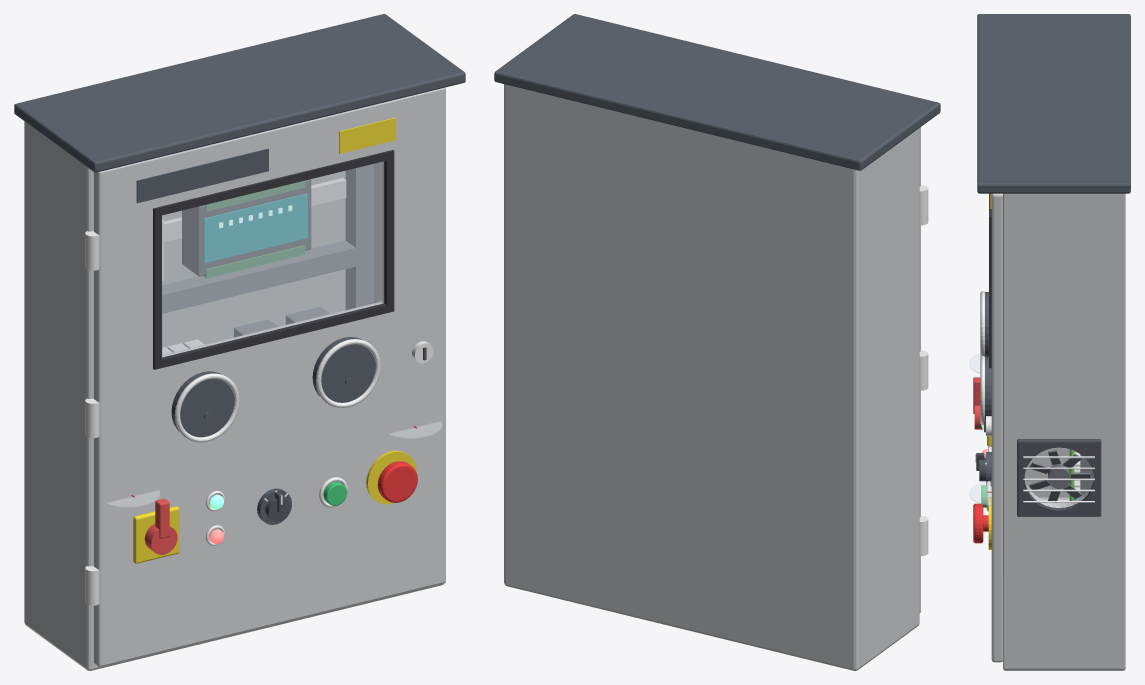
Rendered from electrical_panel.glb.
3 renders of one model, left to right at view 1: azimuth 30°, elevation 25°; view 2: azimuth 150°, elevation 25°; view 3: azimuth 270°, elevation 25°, orthographic. The views are drawn at different scales.
Parts seen in each view (by area): view 1: enclosure_door, cabinet_body, enclosure_window_glass, interior_props, plc_controller, gauge_voltmeter, gauge_ammeter, emergency_stop, main_breaker; view 2: cabinet_body, enclosure_door; view 3: cabinet_body, enclosure_door, cooling_fan, gauge_ammeter, gauge_voltmeter, interior_props, emergency_stop, gauge_ammeter_glass, main_breaker, selector_switch.
Part boxes in pixels (x1,y1,x2,y2): enclosure_door: (85,87,445,666); cabinet_body: (14,14,465,670); enclosure_window_glass: (162,161,383,357); interior_props: (162,164,373,354); plc_controller: (182,179,311,278); gauge_voltmeter: (171,371,239,442); gauge_ammeter: (312,337,380,407); emergency_stop: (377,461,417,502); main_breaker: (144,498,177,554); cabinet_body: (494,14,940,670); enclosure_door: (919,127,928,612); cabinet_body: (977,14,1130,670); enclosure_door: (984,193,1002,662); cooling_fan: (1029,450,1090,502); gauge_ammeter: (980,356,991,425); gauge_voltmeter: (980,291,988,357); interior_props: (1069,449,1093,500); emergency_stop: (973,503,988,543); gauge_ammeter_glass: (969,481,991,505); main_breaker: (973,377,982,429); selector_switch: (975,453,985,481).
Bounding box in the file's own units: 0.79 × 1.09 × 0.316.
